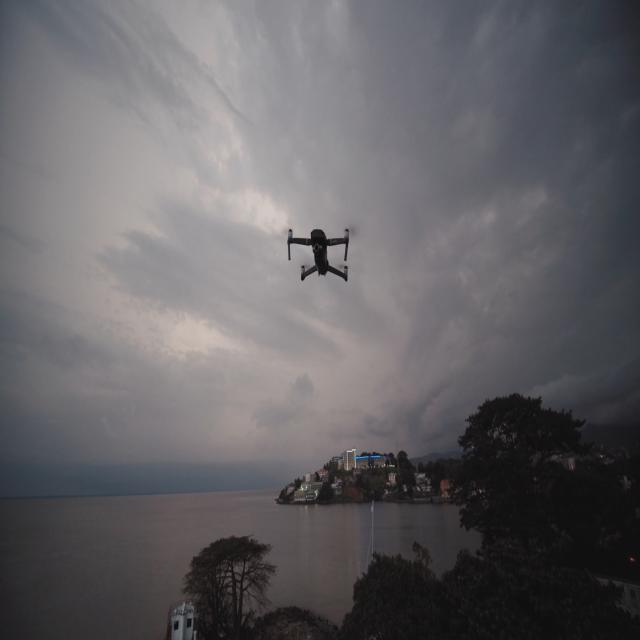drone: (287, 227, 349, 283)
